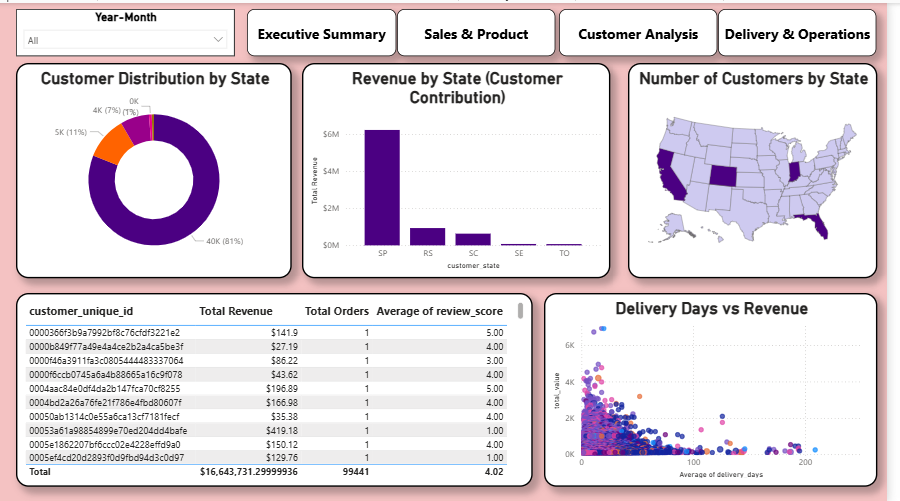

Layout of this report page (visuals, bound fields, positions):
{"tool":"powerbi","page":{"name":"Customer Analysis","canvas":[1280,720],"ordinal":2},"visuals":[{"type":"actionButton","box":[356.7,8.3,215,68.3],"z":0},{"type":"actionButton","box":[573.3,8.3,228.3,68.3],"z":1000},{"type":"actionButton","box":[806.7,8.3,228.3,68.3],"z":2000},{"type":"actionButton","box":[1035,8.3,228.3,68.3],"z":3000},{"type":"slicer","title":"Year-Month","fields":{"Values":["master_sales_data.Order Date"]},"box":[25,8.3,315,68.3],"z":4000},{"type":"donutChart","title":"Customer Distribution by State","fields":{"Category":["master_sales_data.customer_state"],"Y":["master_sales_data.Unique Customers"]},"box":[24.5,86.4,397.4,309.6],"z":5000},{"type":"clusteredColumnChart","title":"Revenue by State (Customer Contribution)","fields":{"Category":["master_sales_data.customer_state"],"Y":["master_sales_data.Total Revenue"]},"box":[436.3,86.4,443.5,309.6],"z":6000},{"type":"scatterChart","title":"Delivery Days vs Revenue","fields":{"Size":["CountNonNull(master_sales_data.customer_unique_id)"],"Y":["master_sales_data.total_value"],"X":["master_sales_data.delivery_days"],"Series":["master_sales_data.review_score"]},"box":[784.8,417.6,479.5,279.4],"z":7000},{"type":"shapeMap","title":"Number of Customers by State","fields":{"Category":["master_sales_data.customer_city"],"Value":["master_sales_data.Unique Customers"]},"box":[905.8,86.4,358.6,309.6],"z":8000},{"type":"tableEx","fields":{"Values":["master_sales_data.customer_unique_id","master_sales_data.Total Revenue","master_sales_data.Total Orders","Avg(master_sales_data.review_score)"]},"box":[24.5,417.6,744.5,279.4],"z":9000}]}

Visuals, with their boxes in screenshot pixels (x1, y1, x2, y2), scaled from the page's 1280x720 canvas onto the 900x501 screenshot:
actionButton: detection(251, 6, 402, 53)
actionButton: detection(403, 6, 564, 53)
actionButton: detection(567, 6, 728, 53)
actionButton: detection(728, 6, 888, 53)
"Year-Month" slicer: detection(18, 6, 239, 53)
"Customer Distribution by State" donutChart: detection(17, 60, 297, 276)
"Revenue by State (Customer Contribution)" clusteredColumnChart: detection(307, 60, 619, 276)
"Delivery Days vs Revenue" scatterChart: detection(552, 291, 889, 485)
"Number of Customers by State" shapeMap: detection(637, 60, 889, 276)
tableEx - master_sales_data.customer_unique_id x master_sales_data.Total Revenue: detection(17, 291, 541, 485)
